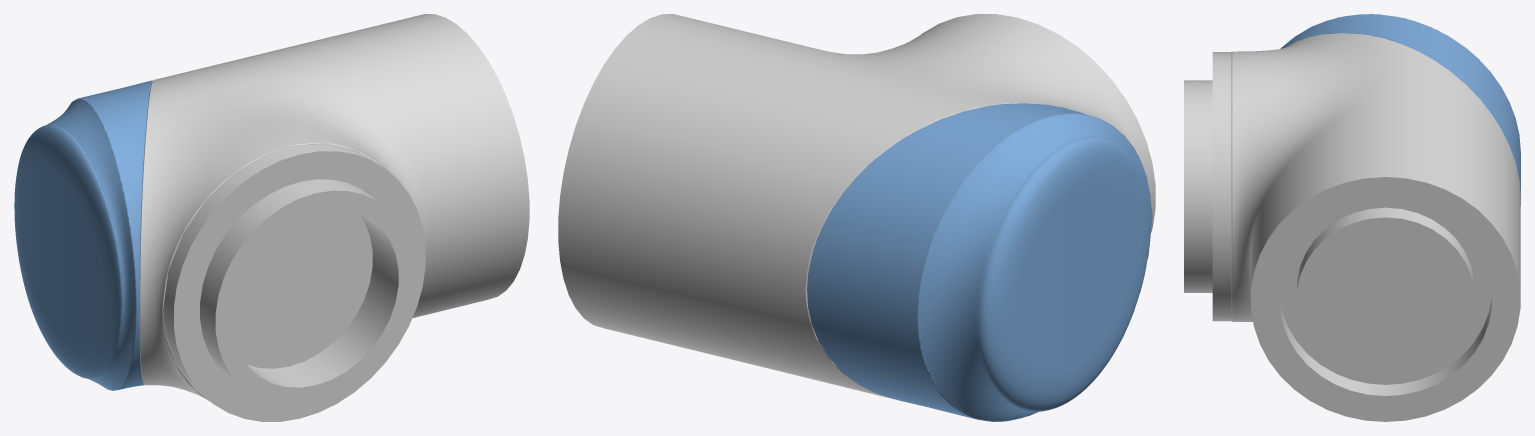
The picture shows the model from 3 angles, left to right: view 1: azimuth 30°, elevation 25°; view 2: azimuth 150°, elevation 25°; view 3: azimuth 270°, elevation 25°; orthographic projection. The views are drawn at different scales.
Visible parts, largest first — view 1: link5.001; view 2: link5.001; view 3: link5.001.
Boxes of the visible parts, x1,y1,x2,y2 form: link5.001: [14, 14, 529, 421]; link5.001: [558, 14, 1155, 421]; link5.001: [1184, 14, 1520, 421].
Size of the model in its own units: 0.1346 by 0.1059 by 0.085.
